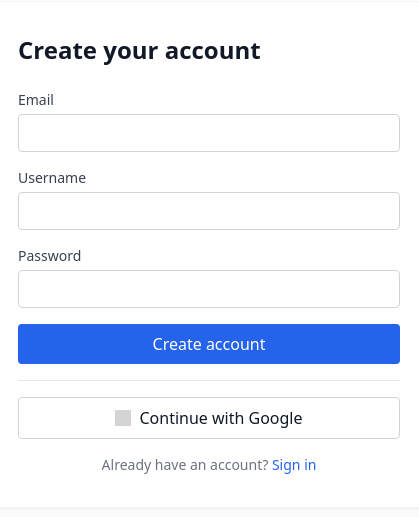
Test: Register page › shows error on registration failure
Type "dup@test.com" into the field labelled "Email". click: coordinates (209, 132)
box: [18,114,400,152]
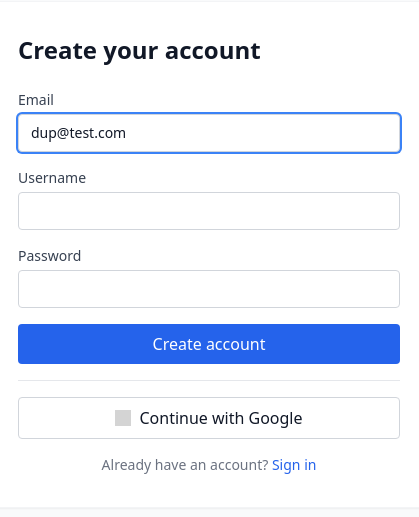
Type "dupuser" into the field labelled "Username". click: coordinates (209, 210)
box: [18,192,400,230]
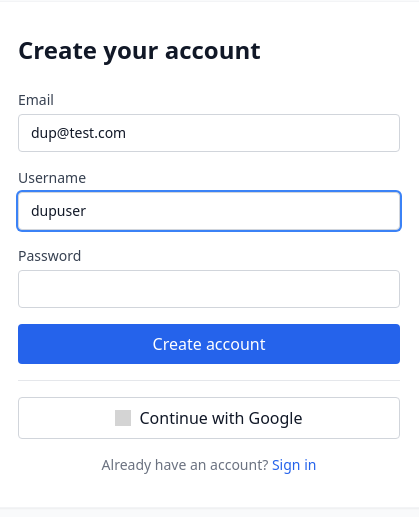
Type "password1" into the password field labelled "Password". click: coordinates (209, 288)
box: [18,270,400,308]
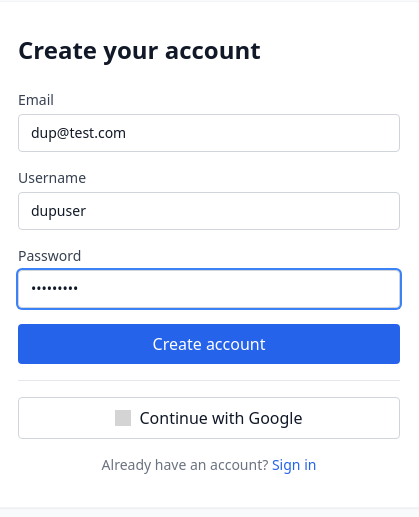
Click the button "Create account". click: coordinates (209, 344)
box: [18,324,400,364]
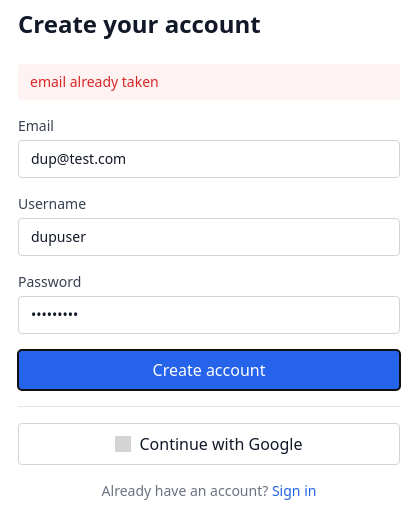
Result: the message reads "email already taken" at [30,72,159,90]
